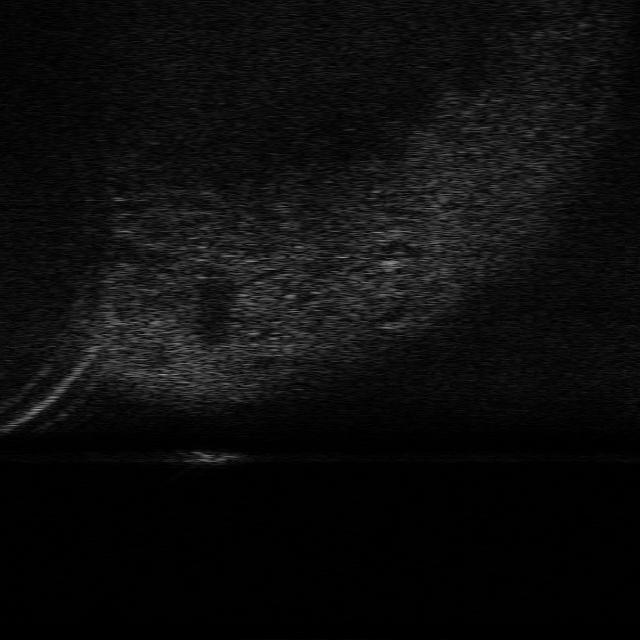cube: (185, 444, 240, 468)
